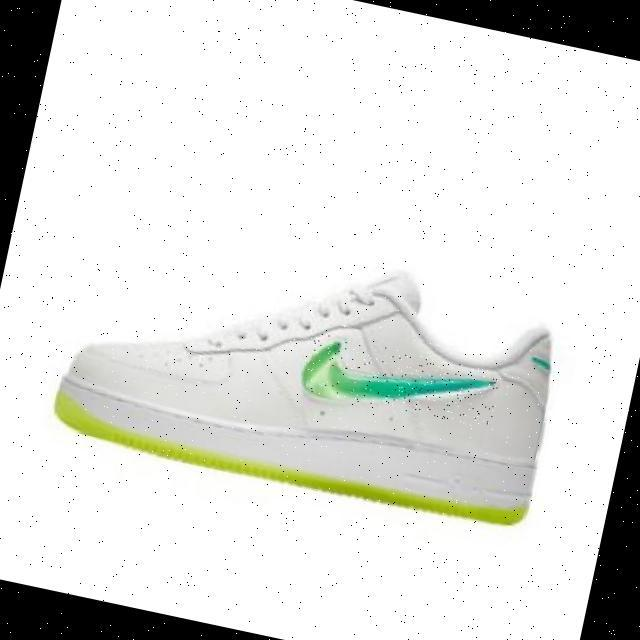Nike: (301, 332, 502, 430)
